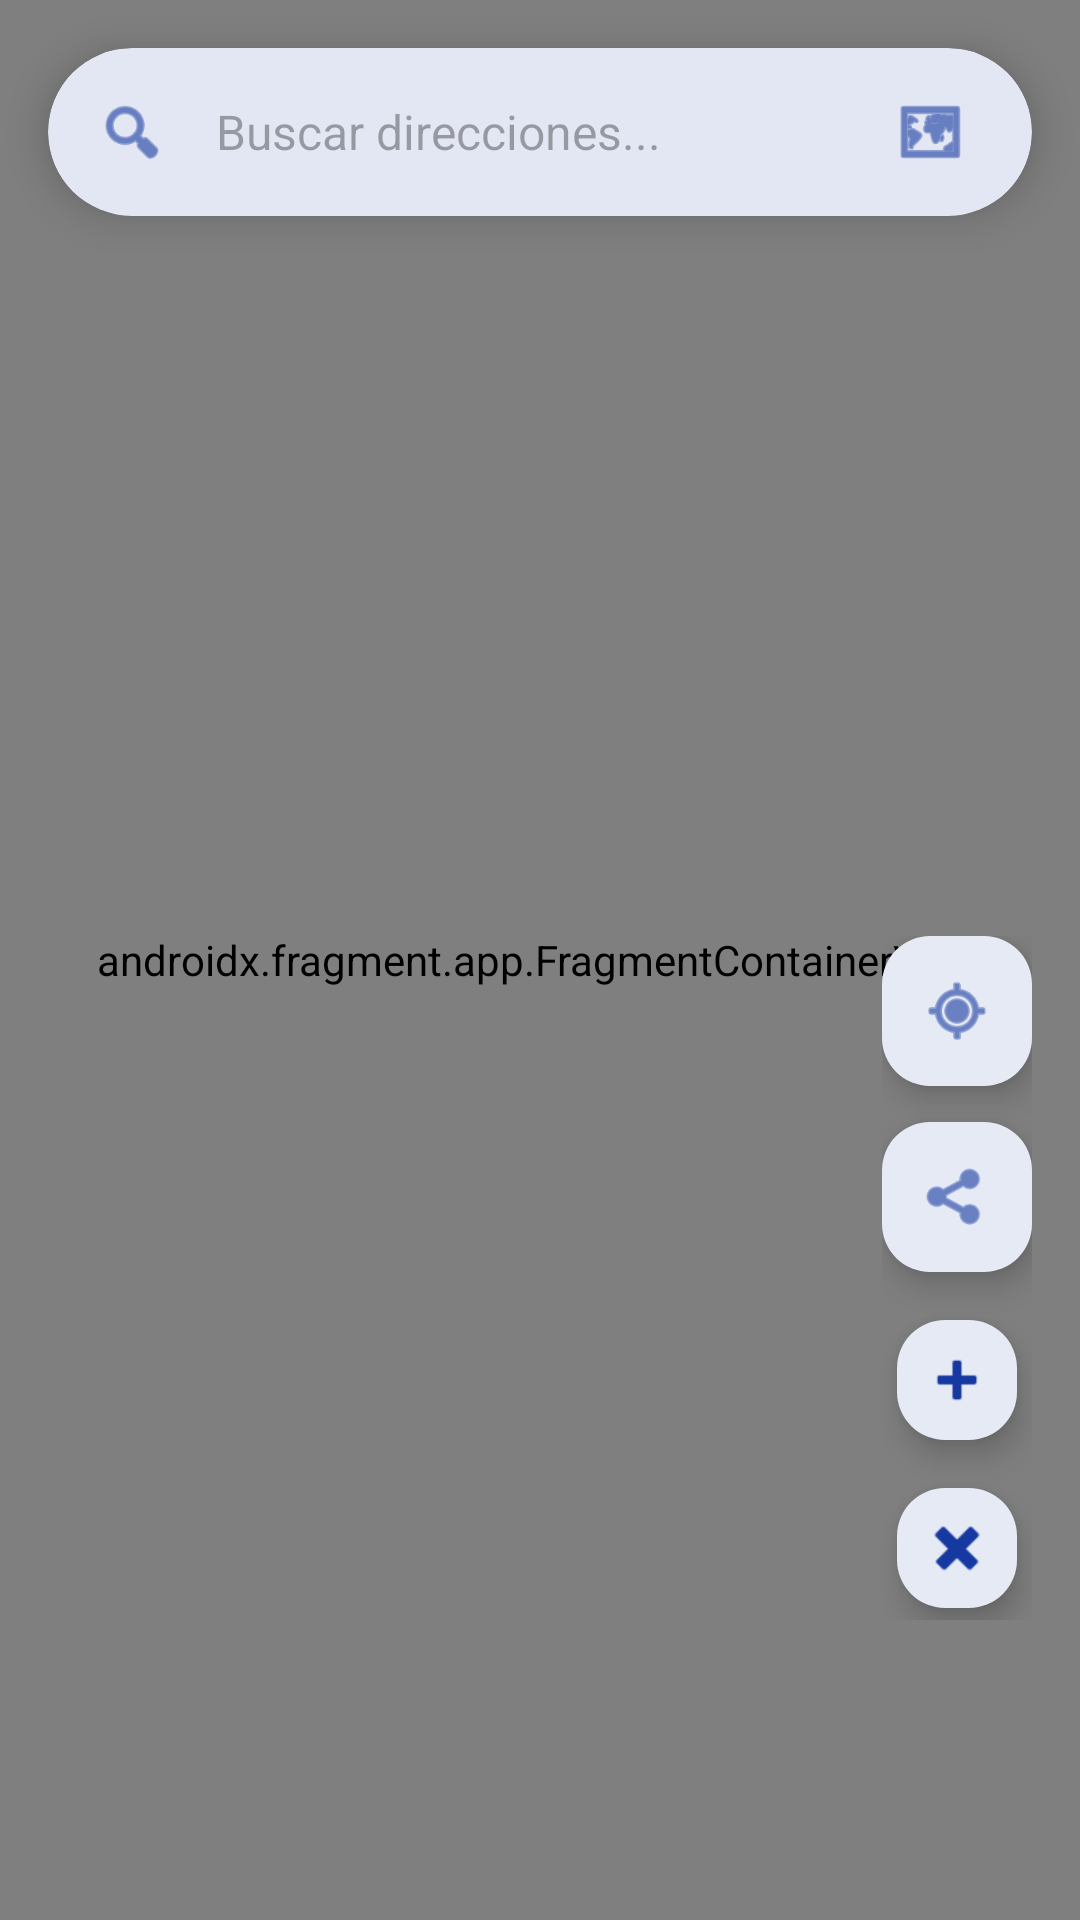

Icon click points for this 1080 x 1920 phone screenshot, format (x,y):
add: (957,1380)
delete: (957,1548)
mapmode: (930,132)
mylocation: (957,1011)
search: (132,132)
share: (957,1197)
